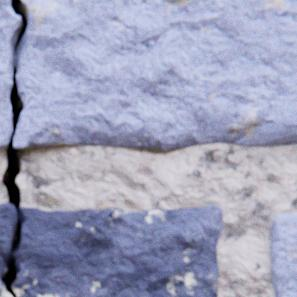brick: (269, 213, 296, 296)
broken_brick: (14, 0, 296, 150), (12, 205, 221, 296), (0, 0, 22, 149), (0, 203, 16, 277), (0, 281, 11, 296)
crack: (0, 0, 27, 296)
